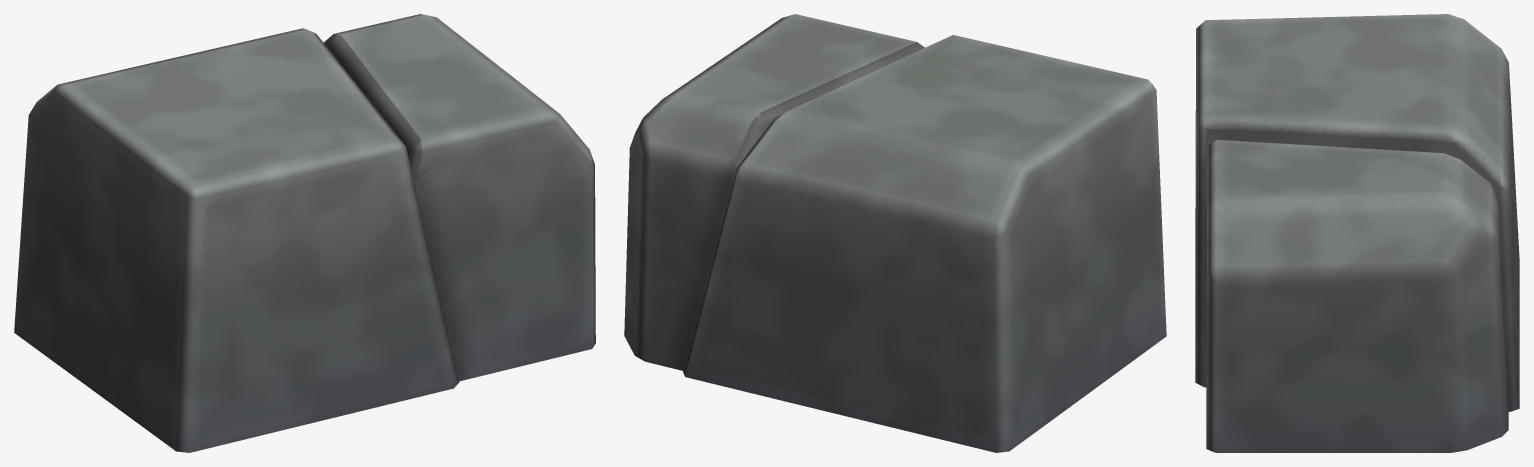
Rendered from block_2.glb.
3 views of the same model, side by side, from view 1: azimuth 30°, elevation 25°; view 2: azimuth 150°, elevation 25°; view 3: azimuth 270°, elevation 25° (orthographic). The views are drawn at different scales.
Parts seen in each view (by area): view 1: block_2; view 2: block_2; view 3: block_2.
Boxes of the visible parts, x1,y1,x2,y2 form: block_2: [14, 14, 595, 452]; block_2: [624, 14, 1166, 452]; block_2: [1195, 14, 1519, 452].
Bounding box in the file's own units: 1 × 0.6 × 0.7.
1 material, 1 textured.
